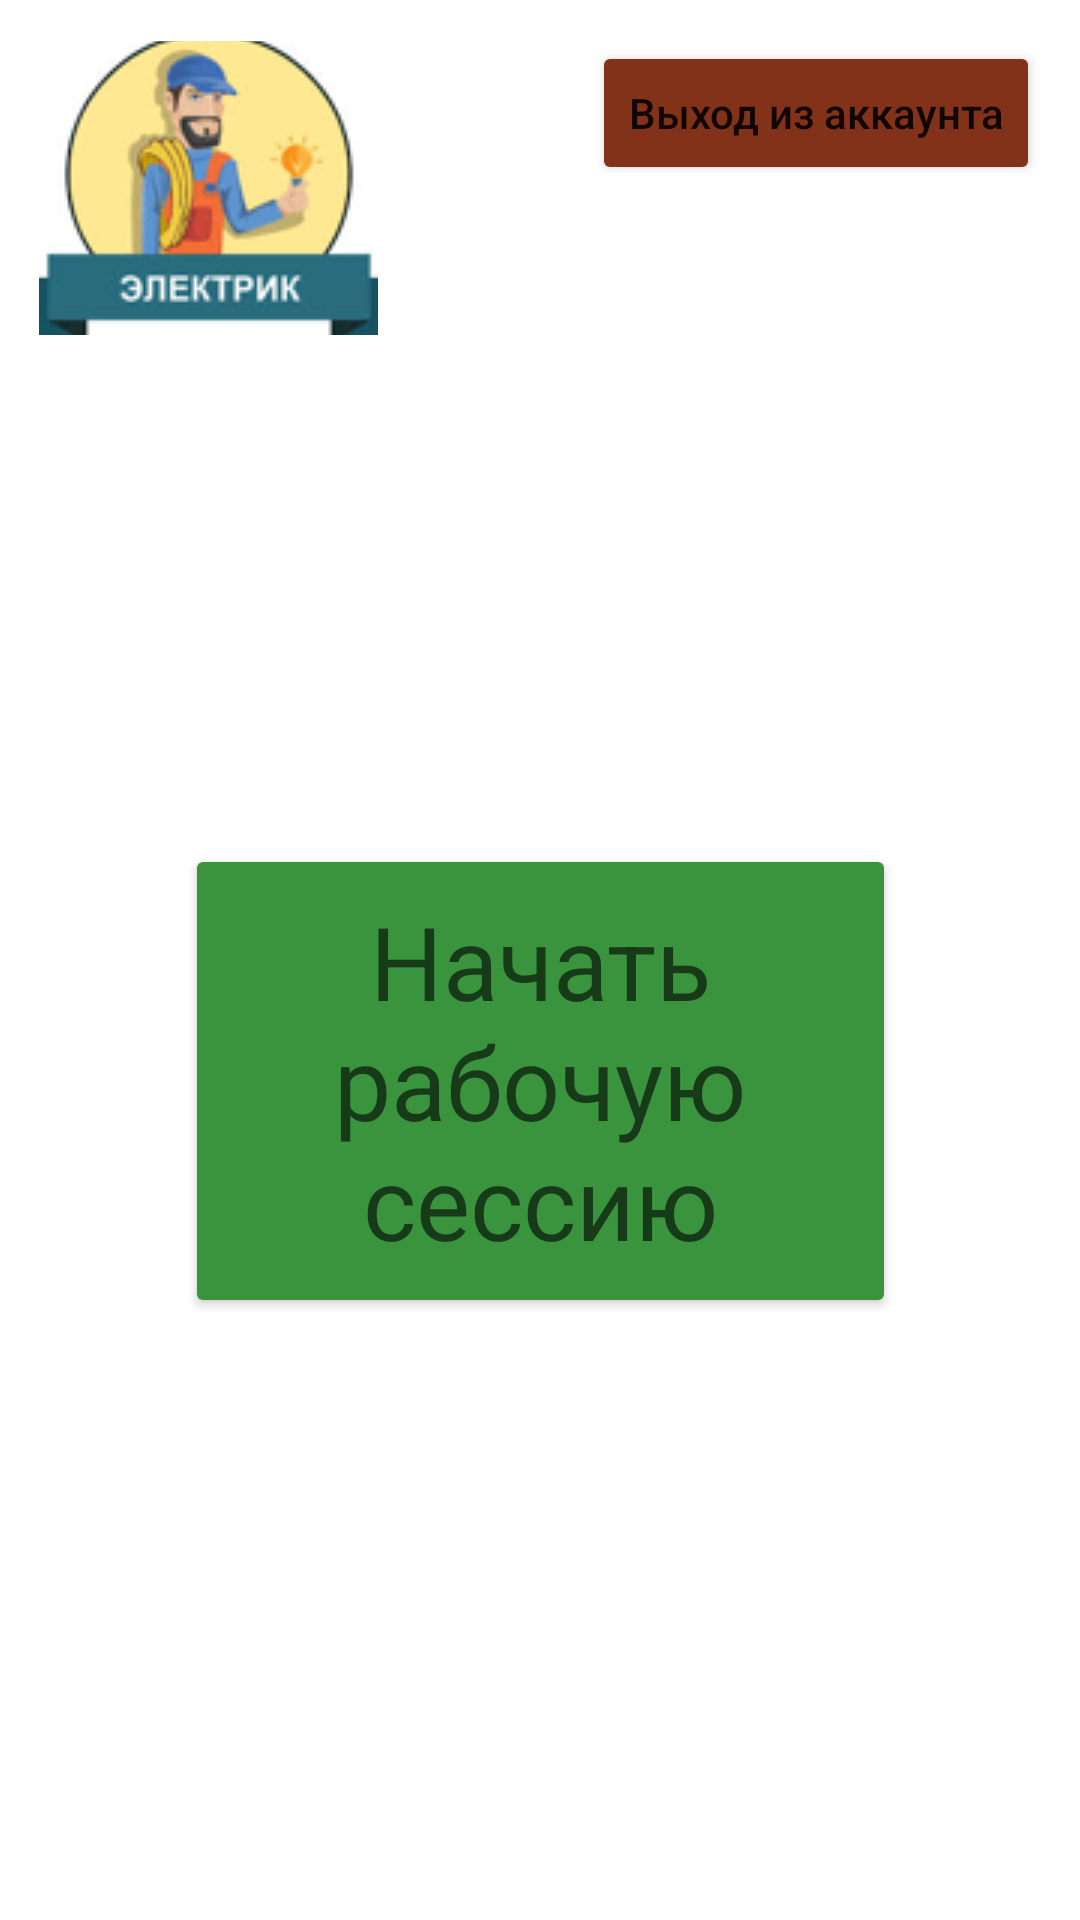

Screen size 1080 x 1920. Icon name, then its center in pixels as point (x, y):
prof: point (208, 188)
